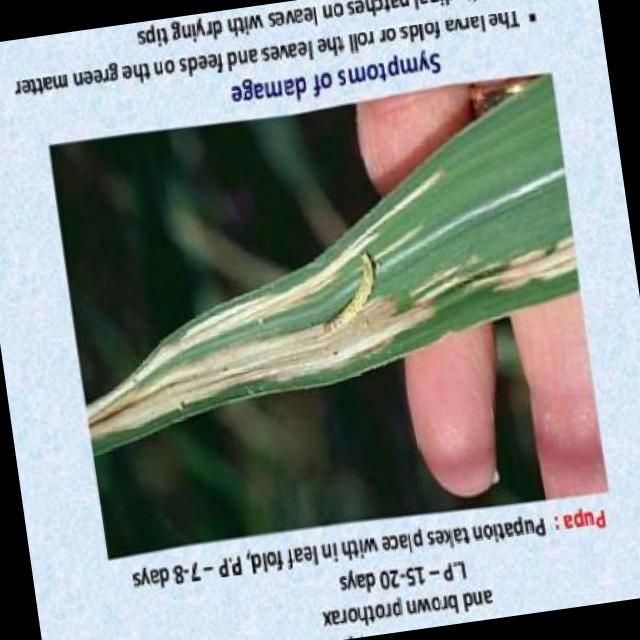leaf-folder: (298, 240, 389, 348)
